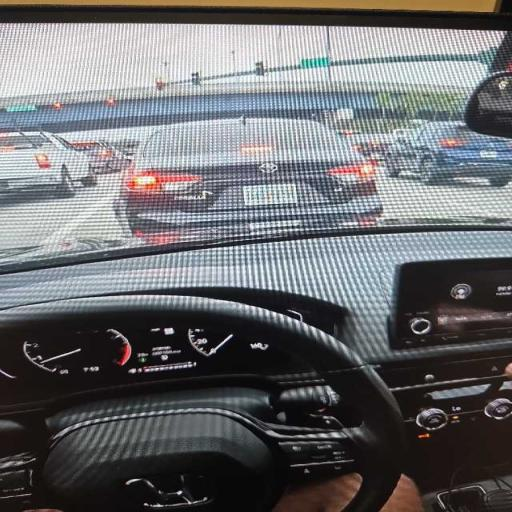car: (0, 7, 511, 511), (116, 118, 382, 236), (385, 122, 511, 187), (0, 132, 95, 196), (72, 140, 129, 172), (350, 134, 391, 160), (390, 129, 415, 142)
lane: (0, 174, 119, 249), (378, 174, 511, 219)
person: (272, 474, 361, 511)
